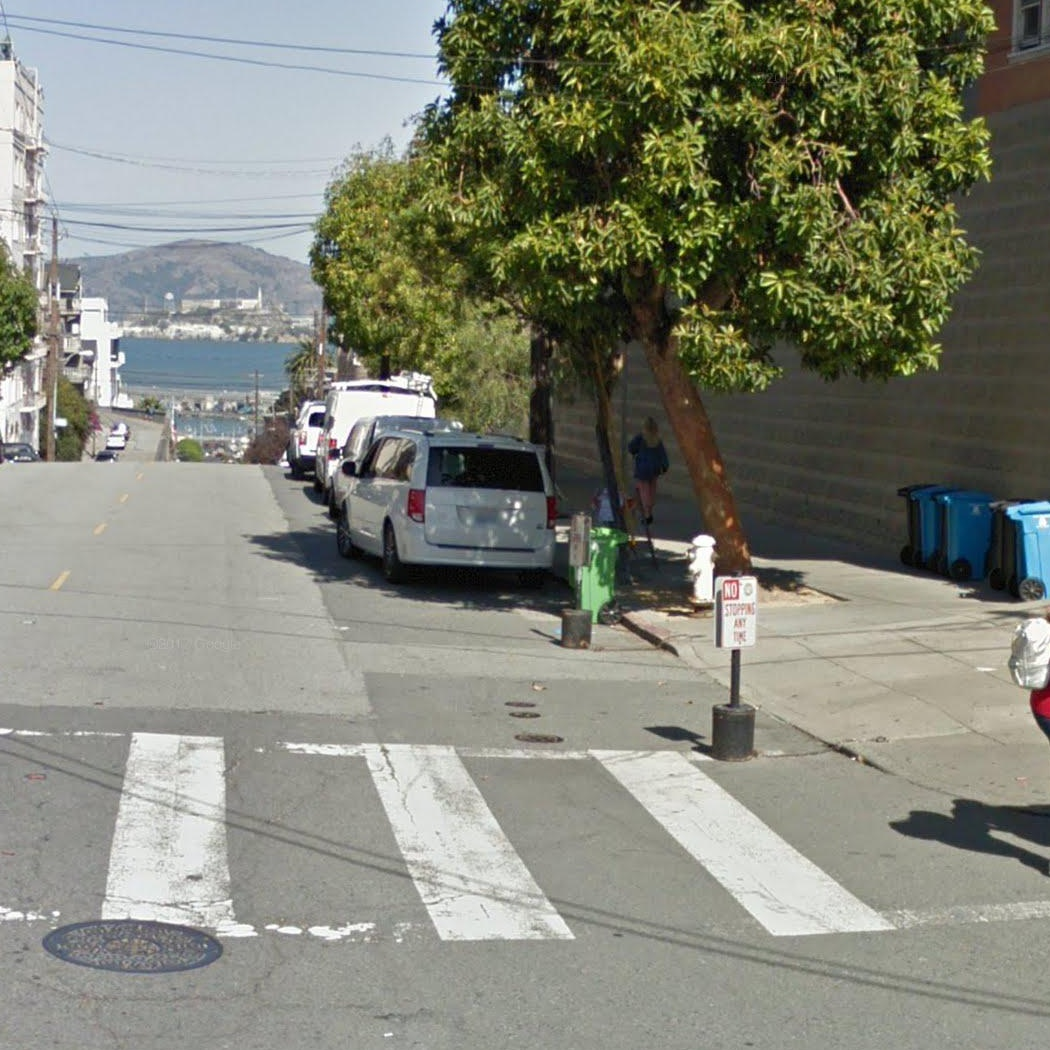No Parking Anytime: (721, 577, 757, 648)
